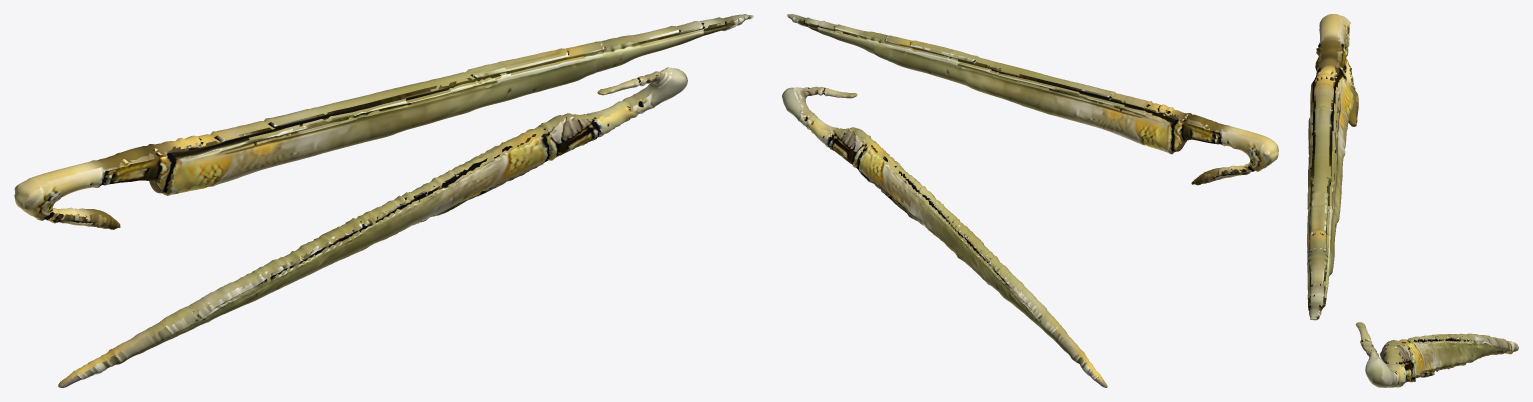
File: kfl-2174.glb
3 renders of one model, left to right at view 1: azimuth 30°, elevation 25°; view 2: azimuth 150°, elevation 25°; view 3: azimuth 270°, elevation 25°, orthographic. The views are drawn at different scales.
Parts seen in each view (by area): view 1: kfl-2174; view 2: kfl-2174; view 3: kfl-2174.
Part boxes in pixels (x1,y1,x2,y2): kfl-2174: (14,14,753,387); kfl-2174: (782,14,1278,387); kfl-2174: (1307,14,1518,387).
Size of the model in its own units: 0.9847 by 0.4227 by 0.2828.
Materials: 4 (4 with a texture image).
